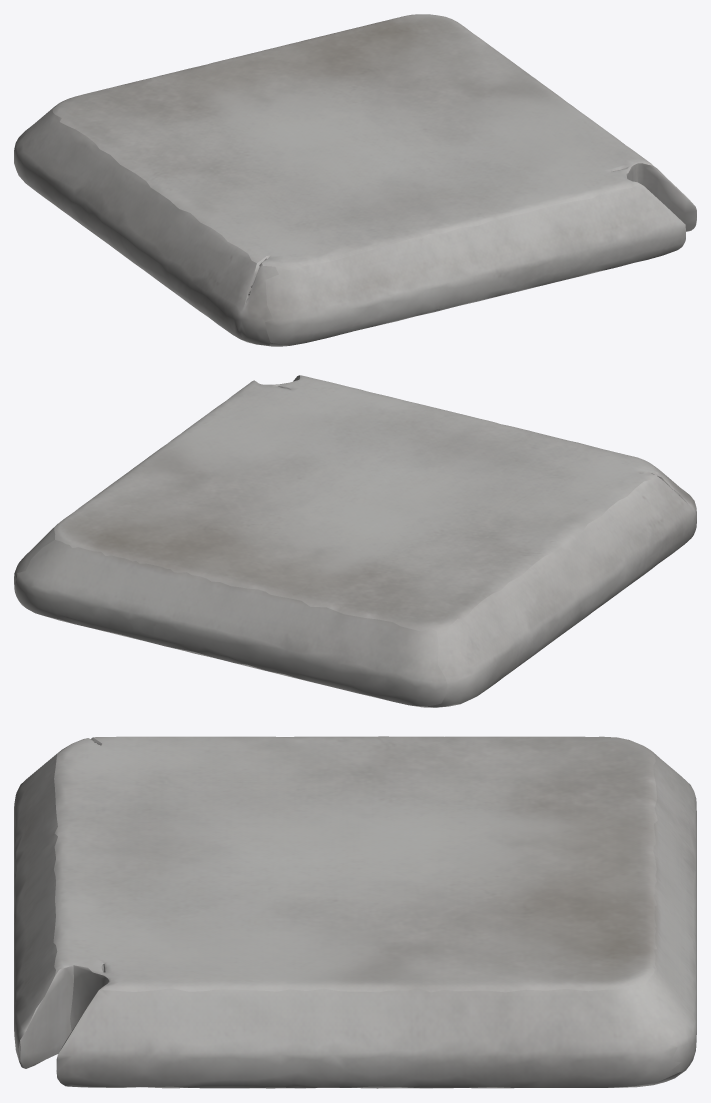
The model's file is T1_device_base.glb.
The picture shows the model from 3 angles, top to bottom: view 1: azimuth 30°, elevation 25°; view 2: azimuth 150°, elevation 25°; view 3: azimuth 270°, elevation 25°; orthographic projection. The views are drawn at different scales.
Visible parts, largest first — view 1: world; view 2: world; view 3: world.
Part boxes in pixels (x1,y1,x2,y2): world: (14,14,696,346); world: (14,375,696,707); world: (14,736,696,1088).
Size of the model in its own units: 0.12 by 0.0172 by 0.12.
Materials: 1 (1 with a texture image).
